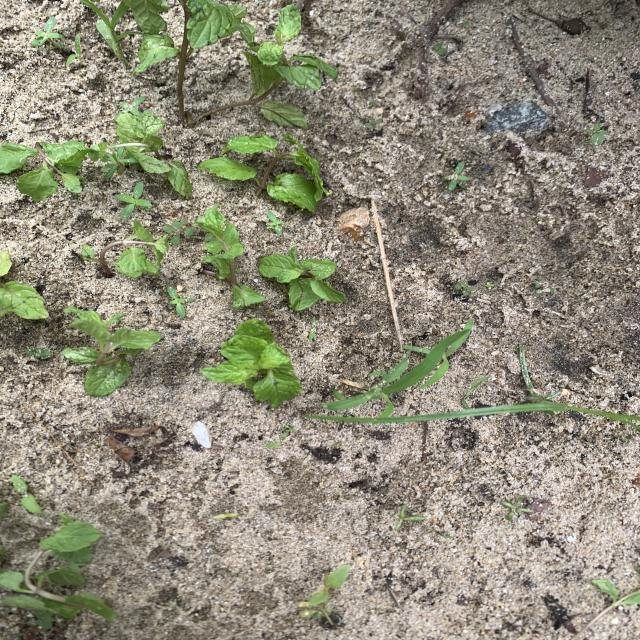crop: (126, 0, 337, 128), (2, 513, 115, 619), (201, 135, 331, 211), (202, 320, 301, 406), (64, 308, 160, 395), (199, 207, 263, 307), (116, 112, 191, 196), (0, 142, 102, 199), (260, 246, 344, 310), (82, 221, 168, 275), (1, 279, 47, 318)
weed: (380, 347, 640, 429), (326, 320, 472, 418), (62, 306, 161, 396), (83, 1, 127, 67), (307, 565, 349, 604), (117, 183, 151, 217), (13, 475, 42, 513), (101, 147, 135, 178), (33, 17, 63, 47), (501, 497, 540, 519), (443, 162, 471, 191), (392, 505, 423, 528), (168, 287, 192, 315), (163, 220, 195, 238), (585, 122, 607, 145), (118, 98, 144, 115), (67, 35, 81, 63), (33, 610, 55, 627), (268, 212, 283, 234), (454, 280, 475, 294), (26, 348, 51, 357), (367, 119, 382, 131), (213, 512, 238, 519), (283, 424, 294, 435), (435, 44, 447, 53), (264, 441, 281, 447), (94, 236, 102, 245), (484, 282, 494, 289), (90, 241, 93, 244)
